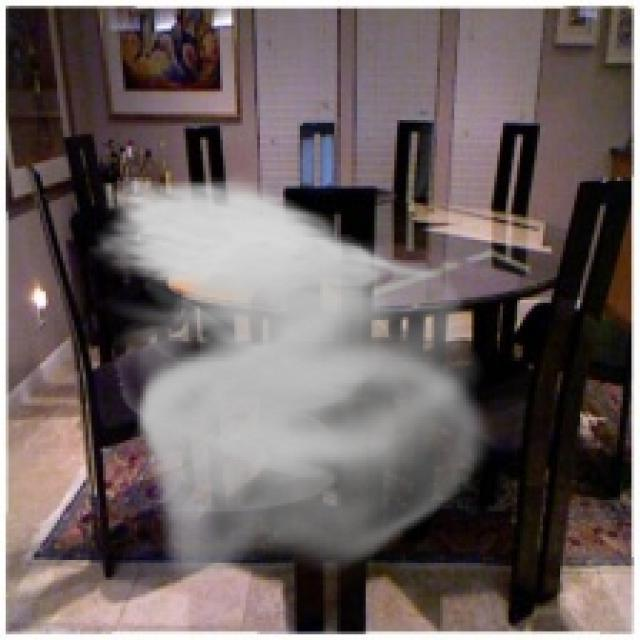Smoke: (88, 171, 500, 583)
